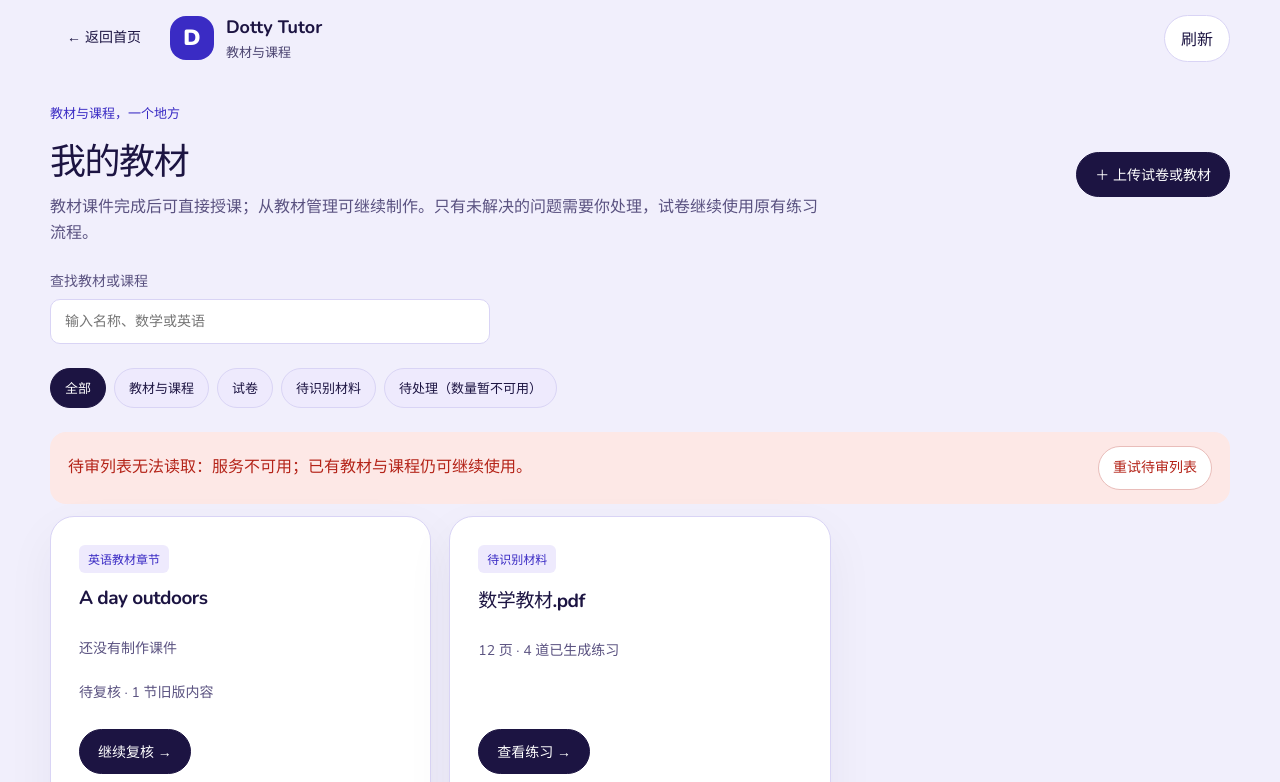
Scenario: user Given the review inbox cannot be read When opening its filter Then materials remain and the count is never shown as zero
The width and height of the screenshot is (1280, 782).
Expected: the heading "A day outdoors" is shown, [79,585,208,611]
Click the button "待处理（数量暂不可用）" at (471, 388), box [384,368,557,408]
(page scrolled)
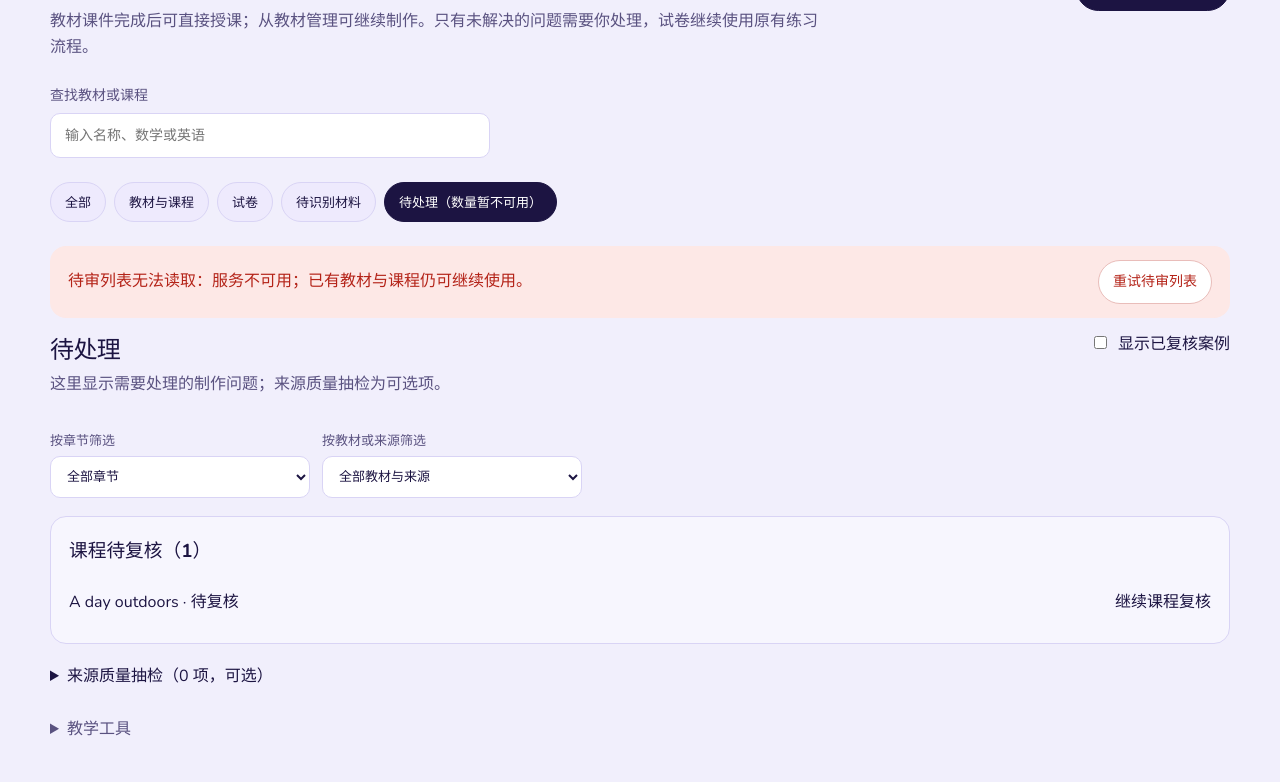
Expected: the text "待审列表无法读取：服务不可用；已有教材与课程仍可继续使用。" is shown, [68,269,532,295]
Now the text "A day outdoors · 待复核" is shown, box [69,588,239,613]
